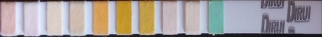color 1: (1, 3, 13, 34)
color 10: (210, 2, 222, 31)
color 2: (25, 3, 37, 34)
color 3: (48, 3, 60, 34)
color 4: (71, 3, 83, 34)
color 5: (94, 3, 107, 33)
color 6: (118, 2, 130, 33)
color 7: (140, 2, 153, 33)
color 8: (164, 3, 175, 32)
color 9: (187, 3, 198, 32)
